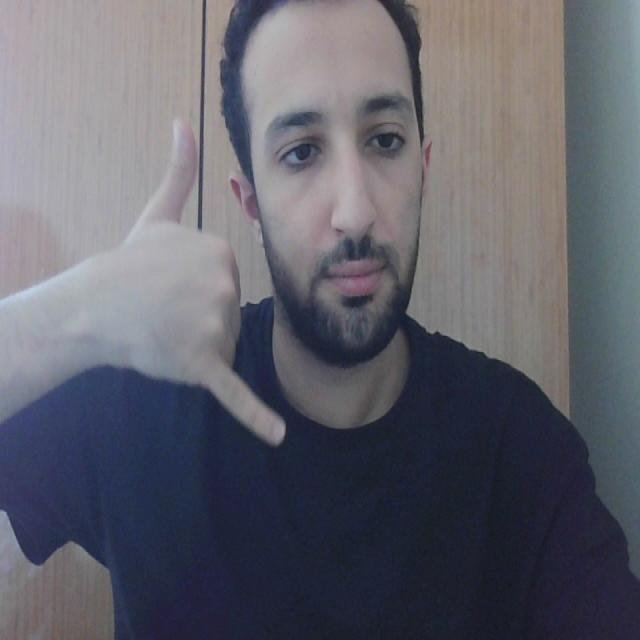Telefon: (126, 81, 304, 452)
